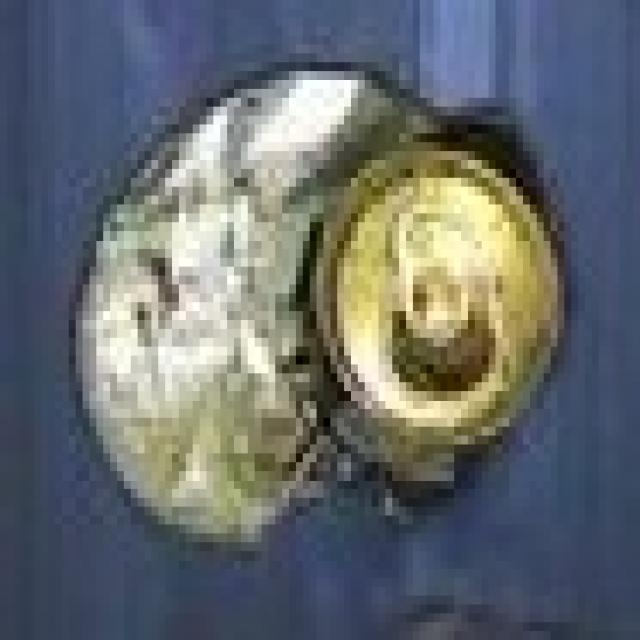can: (41, 27, 593, 584)
